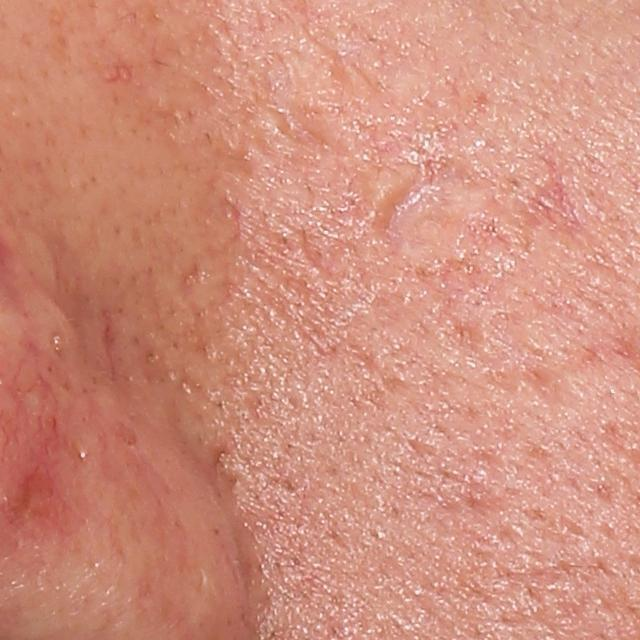atrophic_scar: (365, 176, 445, 248), (284, 102, 354, 158), (533, 153, 581, 234), (523, 362, 579, 409)
